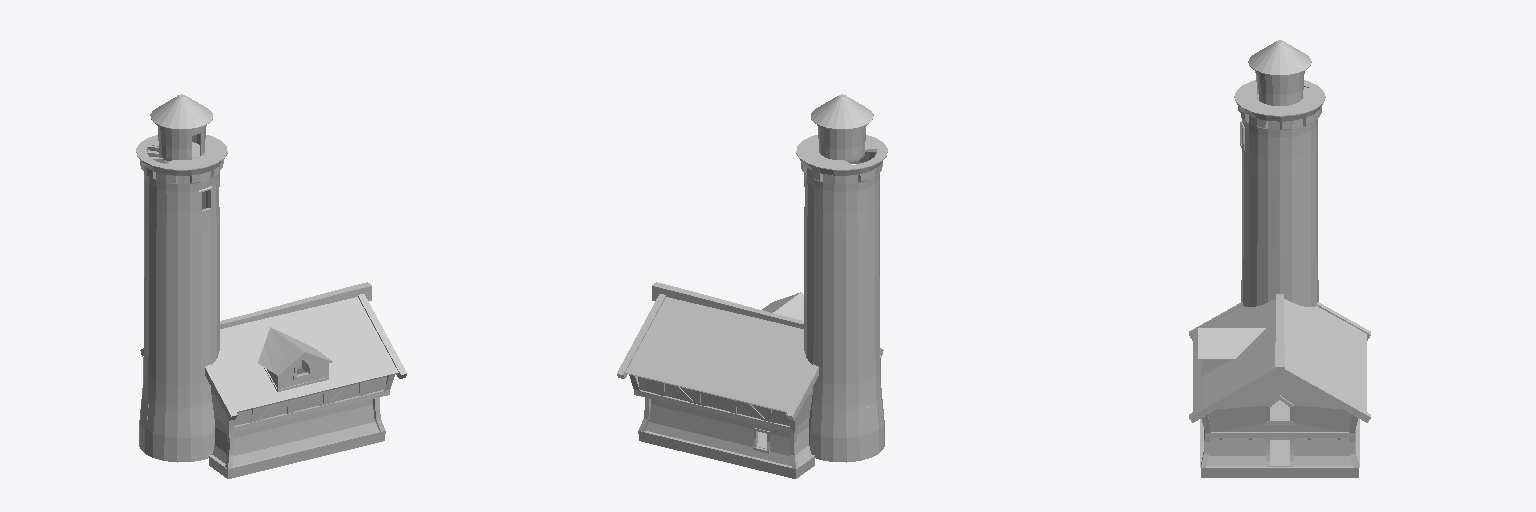
Rendered from lighthouse_third.obj.
3 renders of one model, left to right at view 1: azimuth 30°, elevation 25°; view 2: azimuth 150°, elevation 25°; view 3: azimuth 270°, elevation 25°, orthographic.
Visible parts, largest first — view 1: lighthouse_lp lighthouse1, outside_house house, house beams; view 2: lighthouse_lp lighthouse1, outside_house house, house beams; view 3: outside_house house, lighthouse_lp lighthouse1, house beams, house inside_house.
Part boxes in pixels (bbox=[...]): lighthouse_lp lighthouse1: bbox=[136, 94, 227, 462]; outside_house house: bbox=[209, 297, 398, 478]; house beams: bbox=[140, 282, 406, 468]; lighthouse_lp lighthouse1: bbox=[796, 94, 887, 462]; outside_house house: bbox=[625, 292, 814, 478]; house beams: bbox=[617, 282, 883, 468]; outside_house house: bbox=[1193, 299, 1366, 477]; lighthouse_lp lighthouse1: bbox=[1234, 40, 1325, 406]; house beams: bbox=[1189, 294, 1370, 467]; house inside_house: bbox=[1270, 407, 1289, 463].
Size of the model in its own units: 26.04 by 38.89 by 18.05.